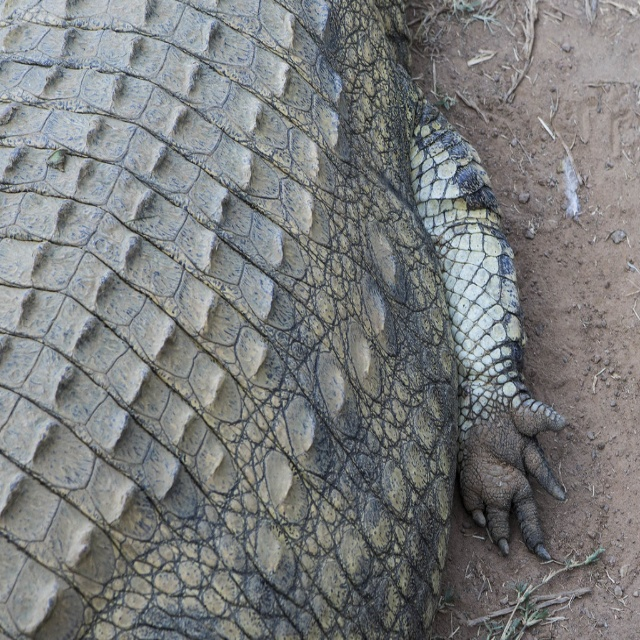Crocodile: (0, 0, 570, 639)
